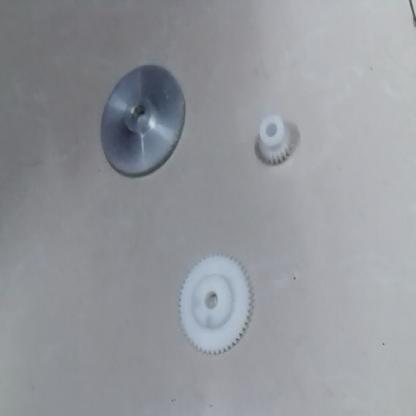FOD: (90, 61, 188, 188), (169, 246, 254, 366), (254, 106, 293, 168)
